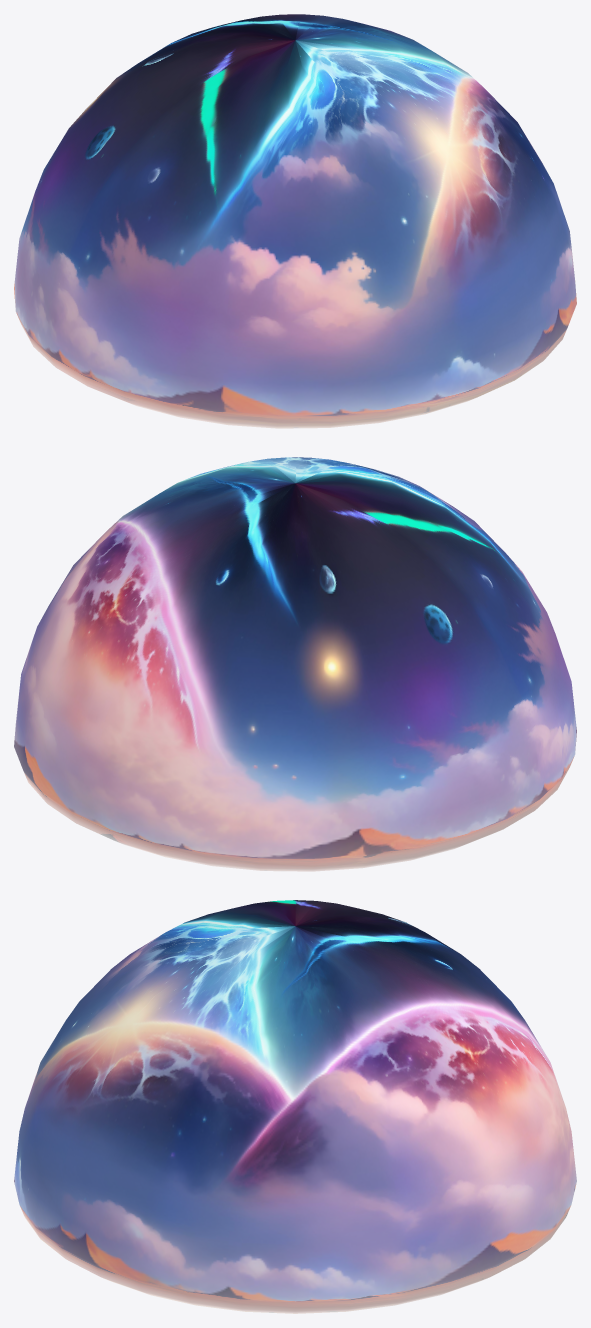
The model's file is background.glb.
3 renders of one model, top to bottom at view 1: azimuth 30°, elevation 25°; view 2: azimuth 150°, elevation 25°; view 3: azimuth 270°, elevation 25°, orthographic.
Visible parts, largest first — view 1: Sphere; view 2: Sphere; view 3: Sphere.
Part boxes in pixels (x1,y1,x2,y2): Sphere: [14, 14, 576, 428]; Sphere: [14, 457, 576, 871]; Sphere: [14, 900, 576, 1313].
Bounding box in the file's own units: 1051 × 577 × 1051.
2 materials, 2 textured.
